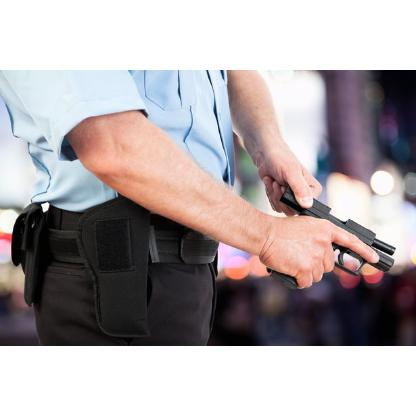gun: (274, 178, 396, 292)
